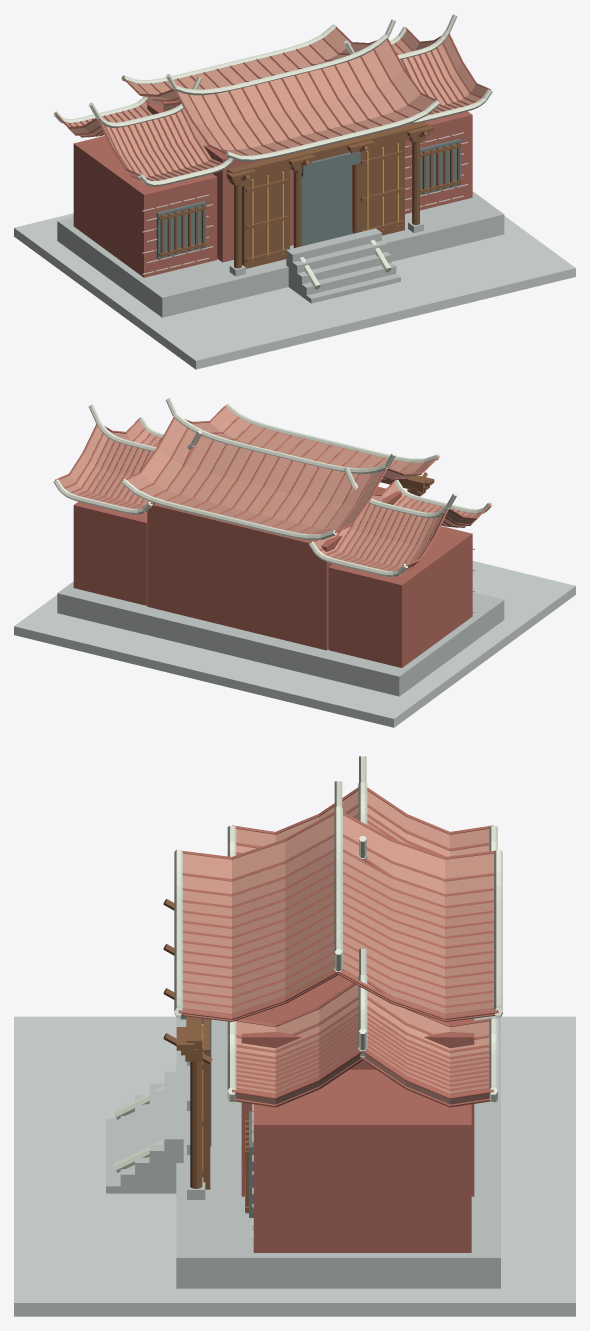
The model's file is dot-P06.glb.
3 renders of one model, top to bottom at view 1: azimuth 30°, elevation 25°; view 2: azimuth 150°, elevation 25°; view 3: azimuth 270°, elevation 25°, orthographic. The views are drawn at different scales.
Parts seen in each view (by area): view 1: pave; view 2: pave; view 3: pave.
Part boxes in pixels (left/top/right/bottom): pave: left=14, top=14, right=575, bottom=369; pave: left=14, top=398, right=575, bottom=727; pave: left=14, top=756, right=575, bottom=1316.
Bounding box in the file's own units: 6.08 × 3.05 × 5.04.
1 material, 1 textured.
